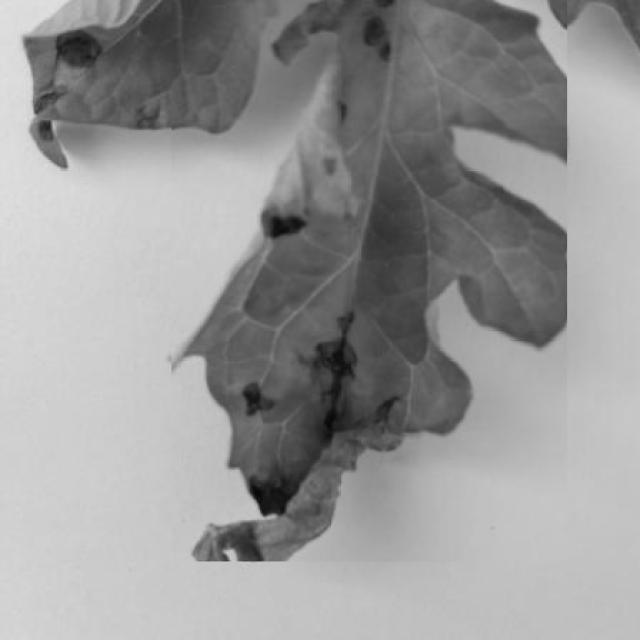Early Blight: (171, 0, 567, 561)
